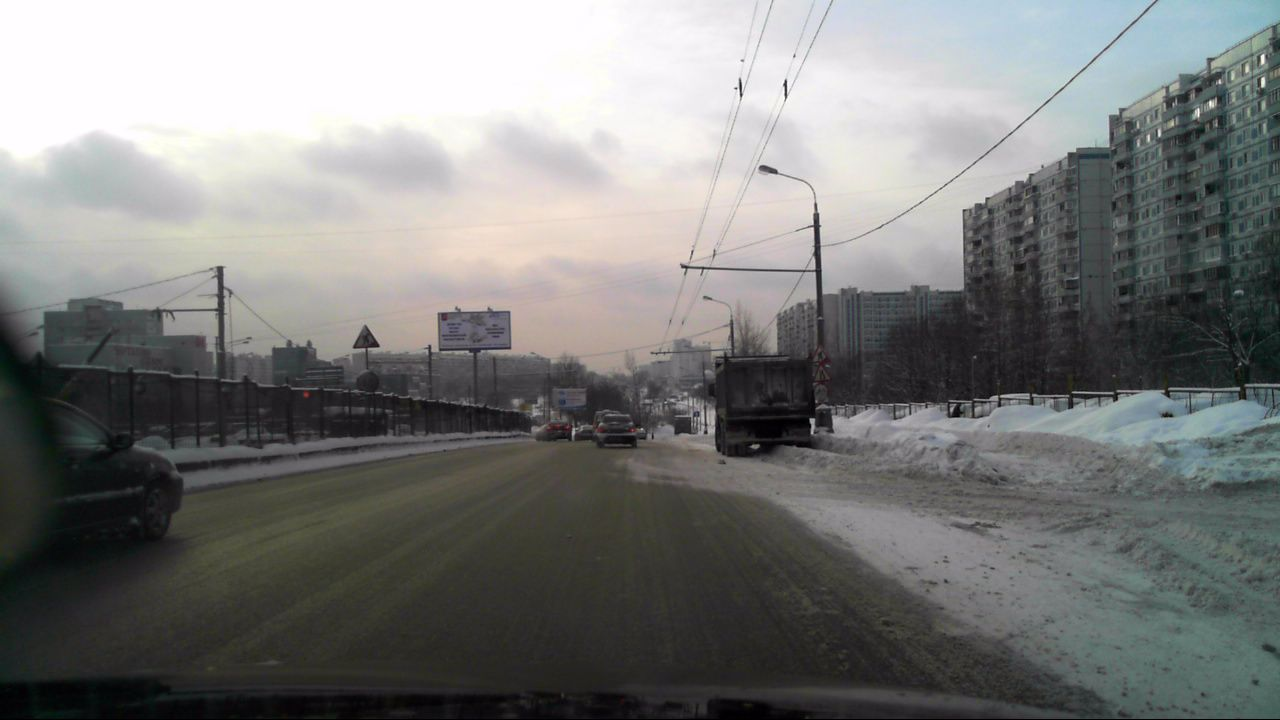speed_warning_40: (355, 370, 378, 393)
